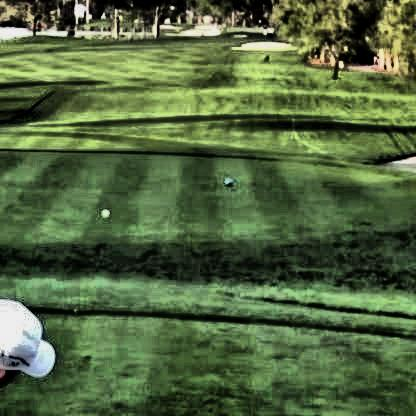golfball: (98, 206, 107, 215)
